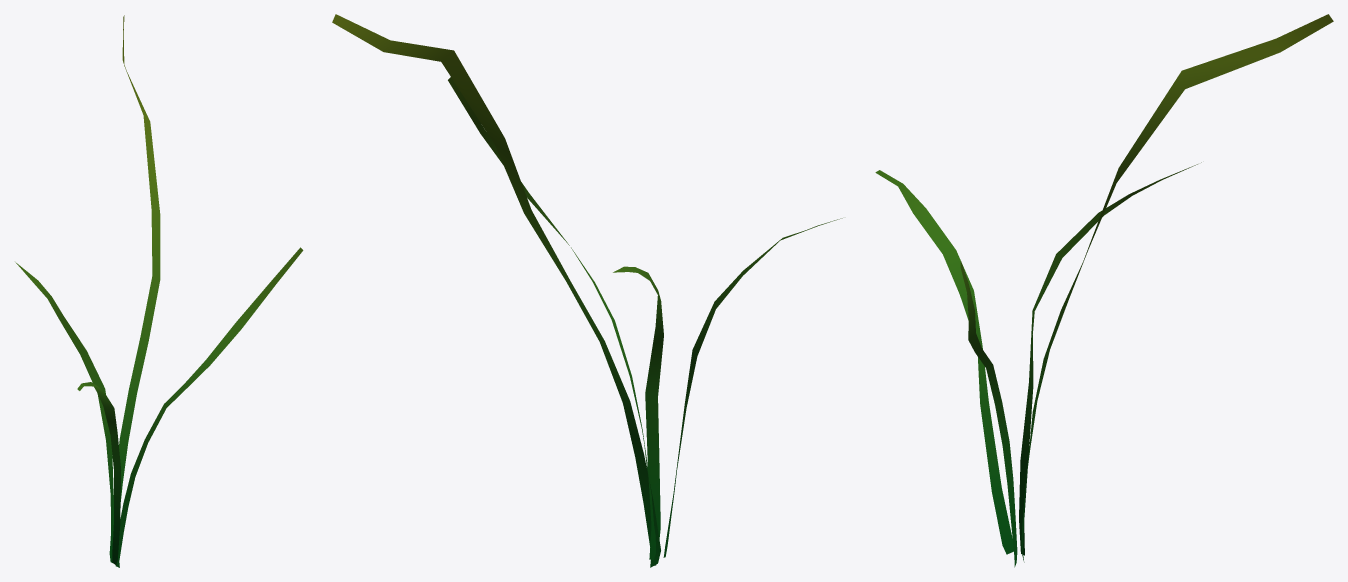
Rendered from grass_medium_01_11.glb.
3 renders of one model, left to right at view 1: azimuth 30°, elevation 25°; view 2: azimuth 150°, elevation 25°; view 3: azimuth 270°, elevation 25°, orthographic. The views are drawn at different scales.
Visible parts, largest first — view 1: grass_medium_01_tiny_a_LOD0; view 2: grass_medium_01_tiny_a_LOD0; view 3: grass_medium_01_tiny_a_LOD0.
Part boxes in pixels (box(x1,y1,x2,y2)): grass_medium_01_tiny_a_LOD0: box(15, 15, 303, 567); grass_medium_01_tiny_a_LOD0: box(332, 14, 842, 567); grass_medium_01_tiny_a_LOD0: box(875, 14, 1333, 567).
Bounding box in the file's own units: 0.0673 × 0.1125 × 0.0738.
